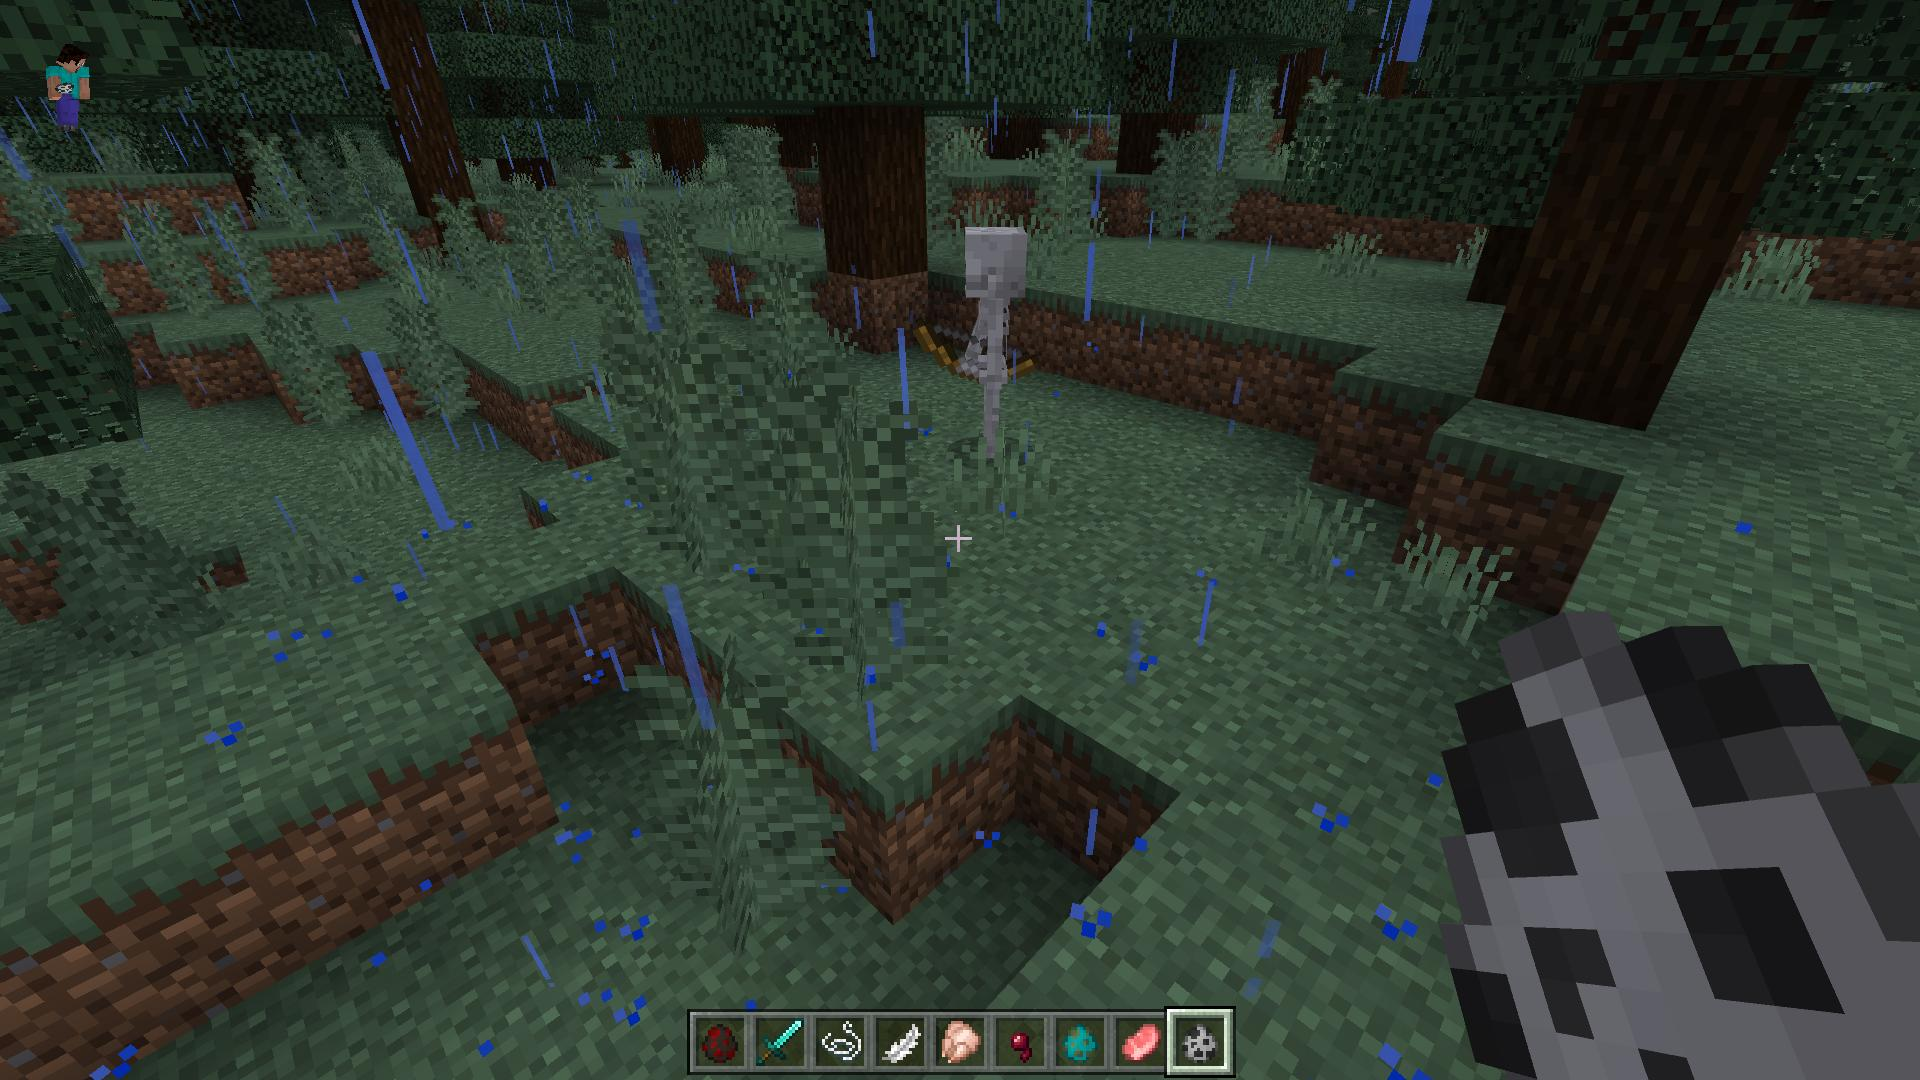skeleton: (916, 222, 1038, 450)
